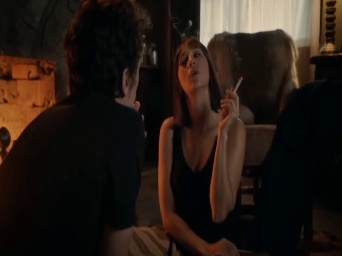smoke: (228, 74, 243, 104)
